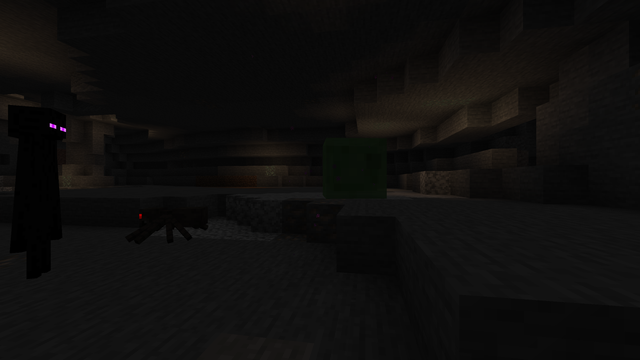araignees: (126, 202, 206, 242)
endermens: (1, 98, 72, 281)
slimes: (318, 134, 381, 198)
